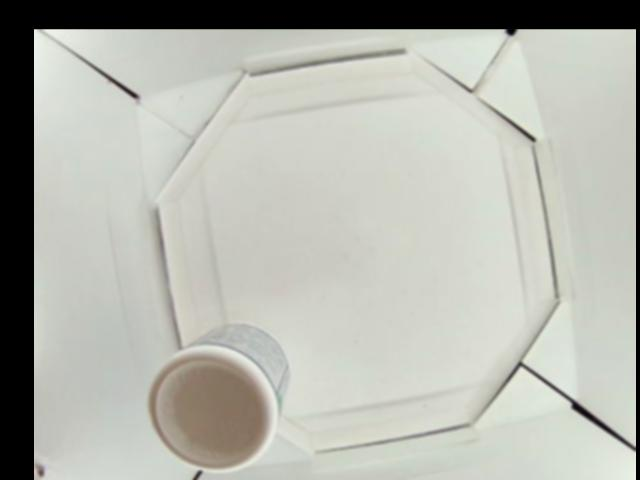Bottle: (149, 319, 290, 471)
